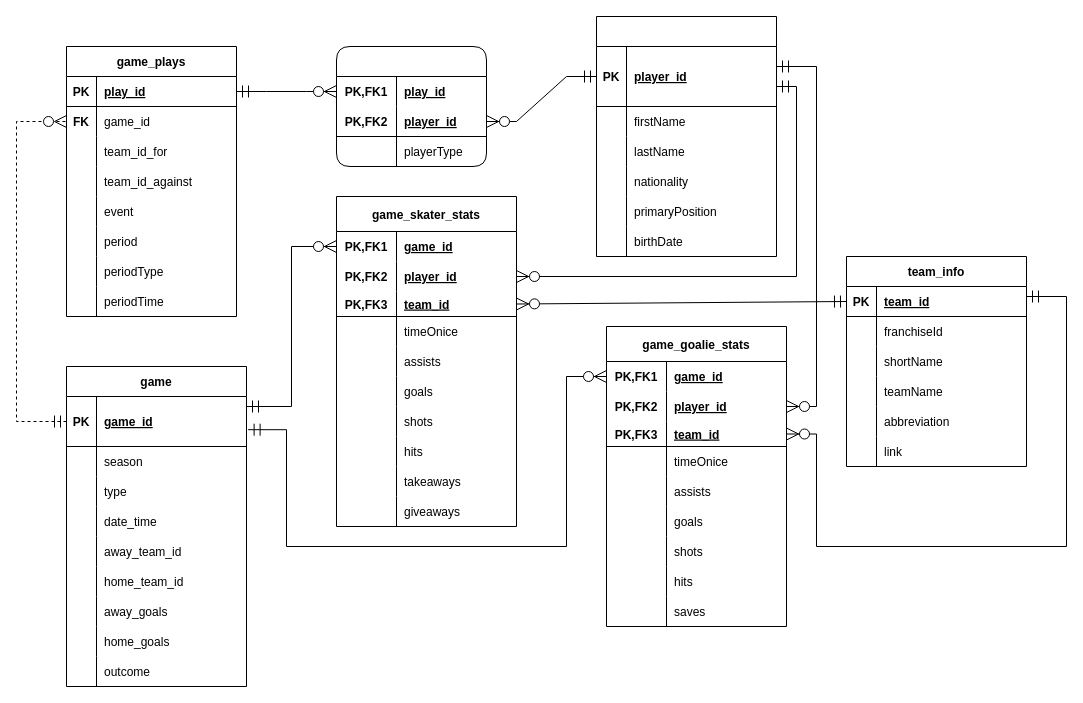
This 1083x703 diagram has some shape labels left out. Each missing label, with the box of its shape:
game_plays_players: (336, 46, 486, 166)
player_info: (596, 16, 776, 256)
